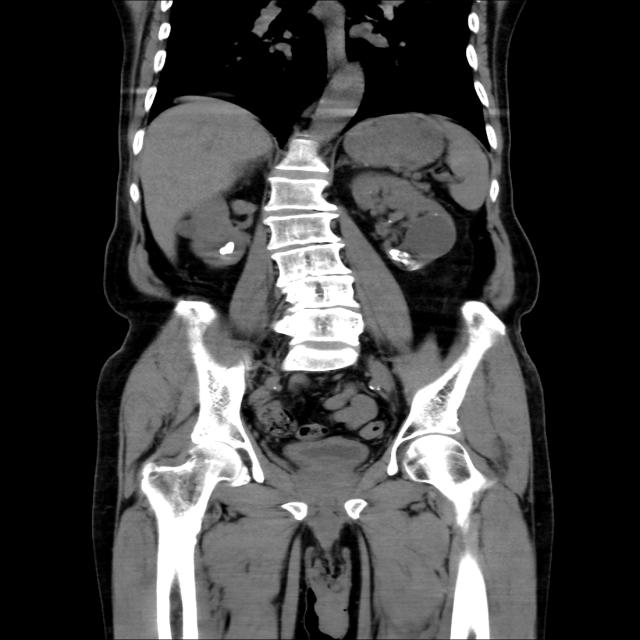kidneystone: (388, 249, 421, 271), (219, 241, 235, 255), (385, 214, 394, 222)
